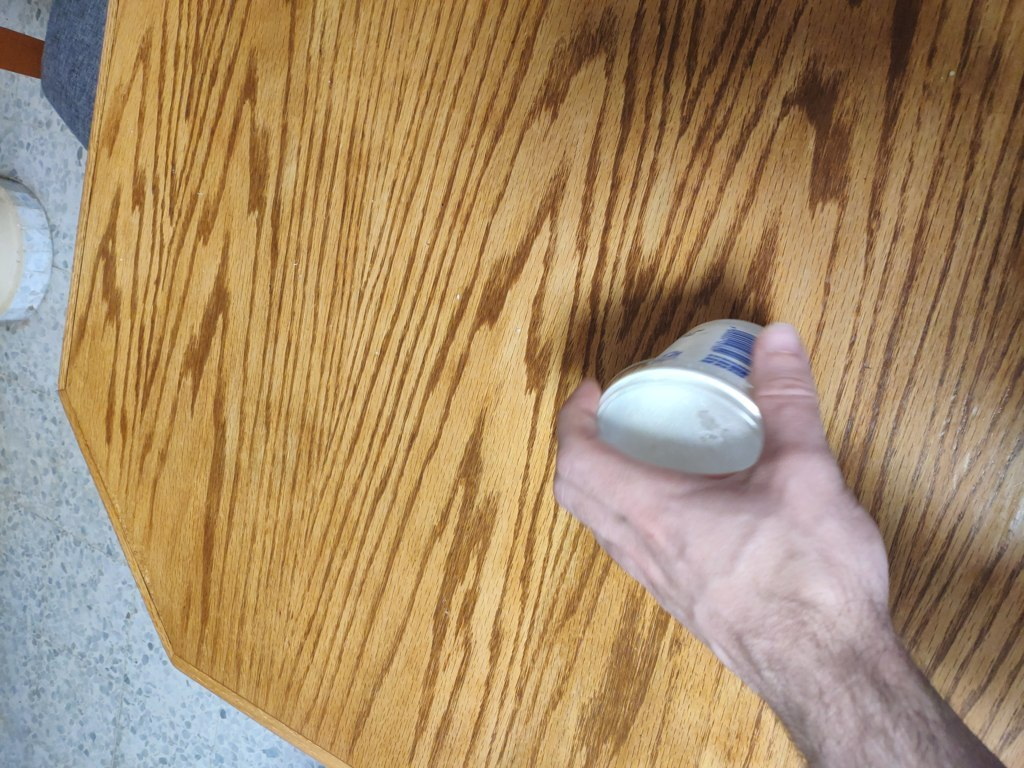Cotage: (598, 322, 821, 489)
